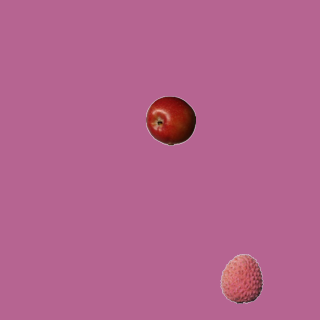Apple Braeburn: (145, 95, 195, 145)
Lychee: (216, 253, 266, 303)
